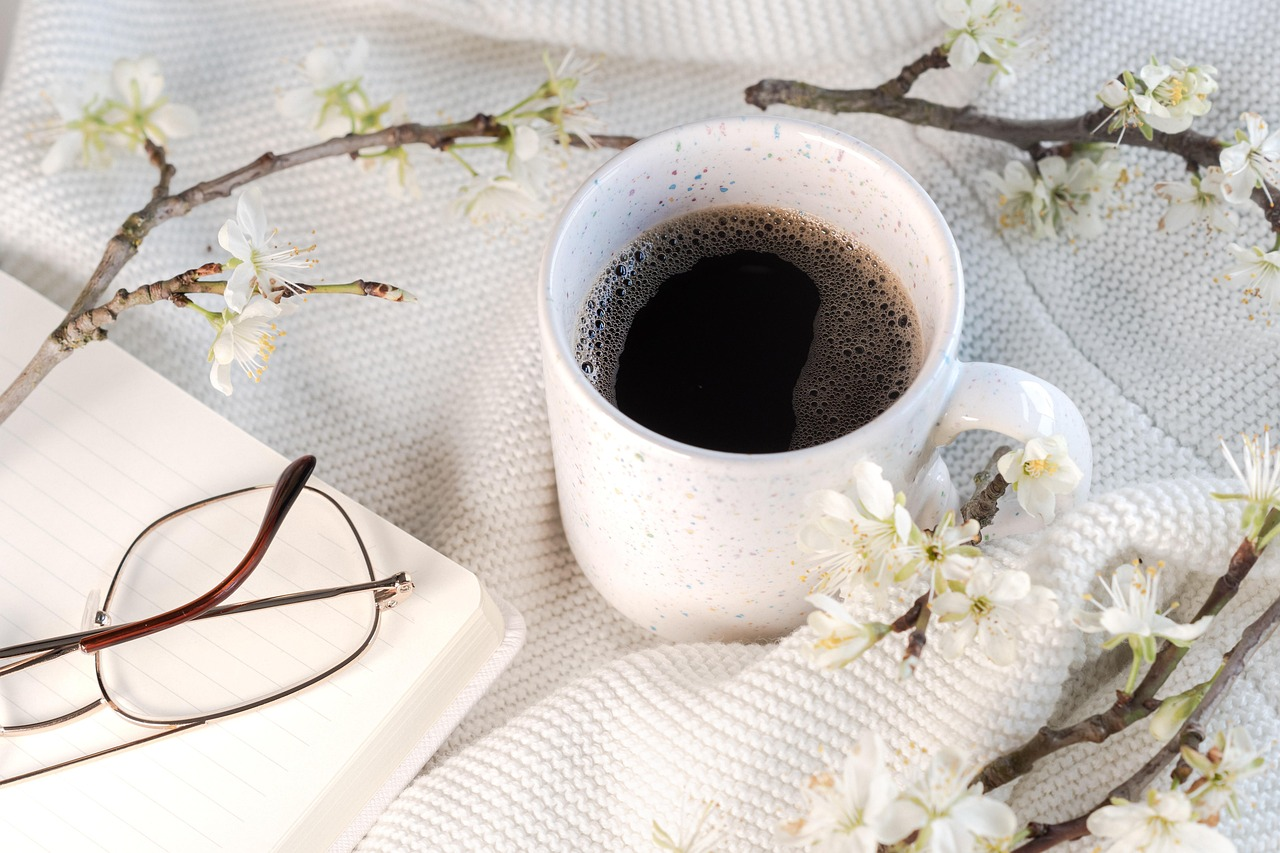mug: (511, 102, 1115, 706)
